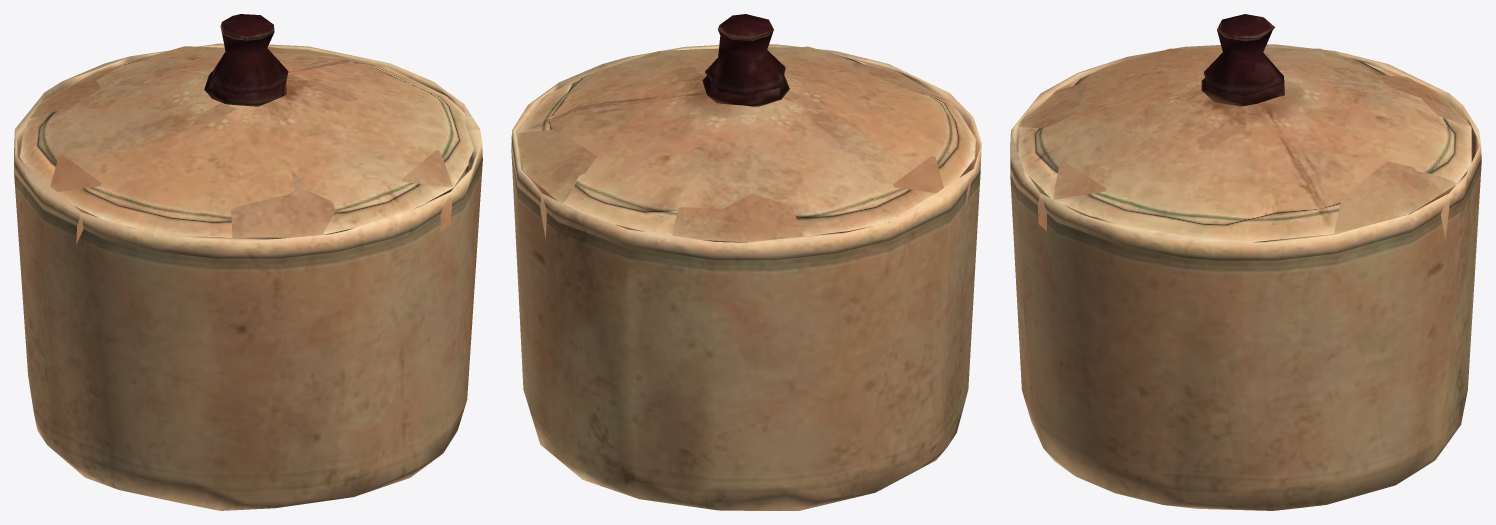
Rendered from brass_pot_01.glb.
The picture shows the model from 3 angles, left to right: view 1: azimuth 30°, elevation 25°; view 2: azimuth 150°, elevation 25°; view 3: azimuth 270°, elevation 25°; orthographic projection.
Parts seen in each view (by area): view 1: brass_pot_01; view 2: brass_pot_01; view 3: brass_pot_01.
Part boxes in pixels (x1=…): brass_pot_01: x1=14, y1=14, x2=482, y2=510; brass_pot_01: x1=511, y1=14, x2=981, y2=510; brass_pot_01: x1=1010, y1=14, x2=1481, y2=510.
Bounding box in the file's own units: 0.298 × 0.2844 × 0.2979.
Materials: 1 (1 with a texture image).
